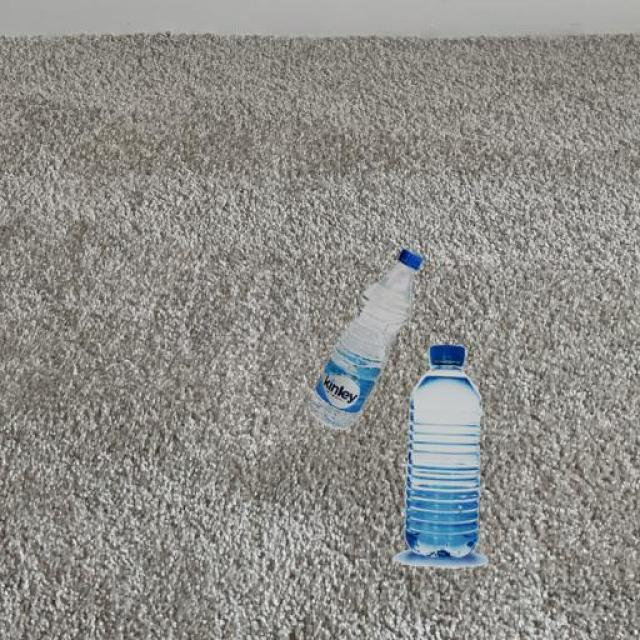plastic: (315, 250, 421, 428), (404, 344, 480, 550)
